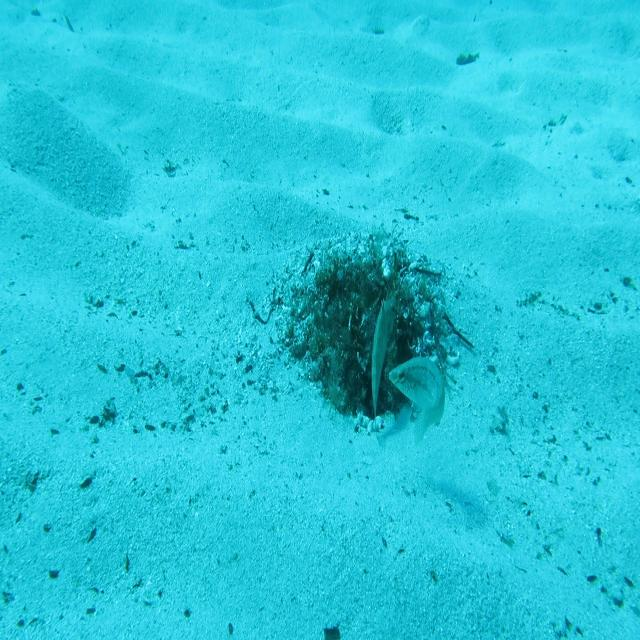FAN: (368, 293, 399, 452)
core_nest: (338, 275, 382, 310)
female: (387, 354, 446, 450)
nest: (269, 227, 467, 458)
vegetation: (455, 49, 479, 70)
